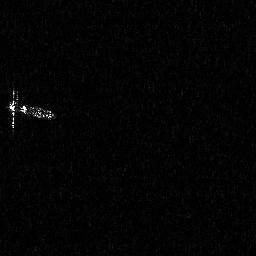ship: (7, 88, 56, 134)
